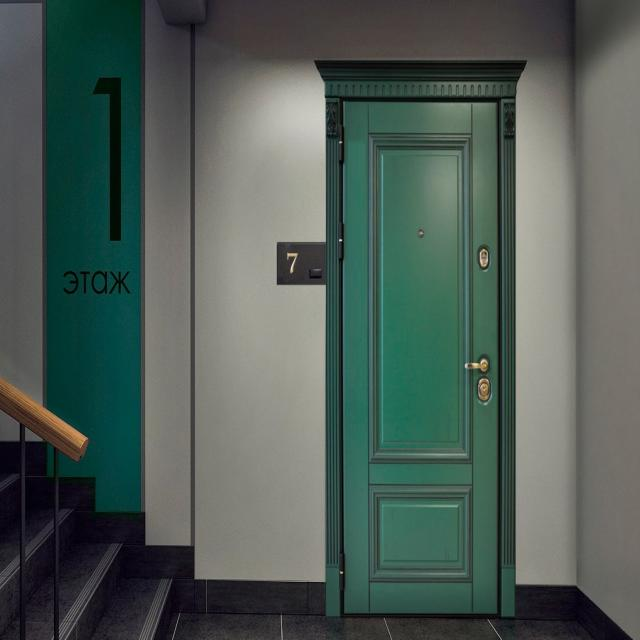close: (345, 101, 503, 630)
